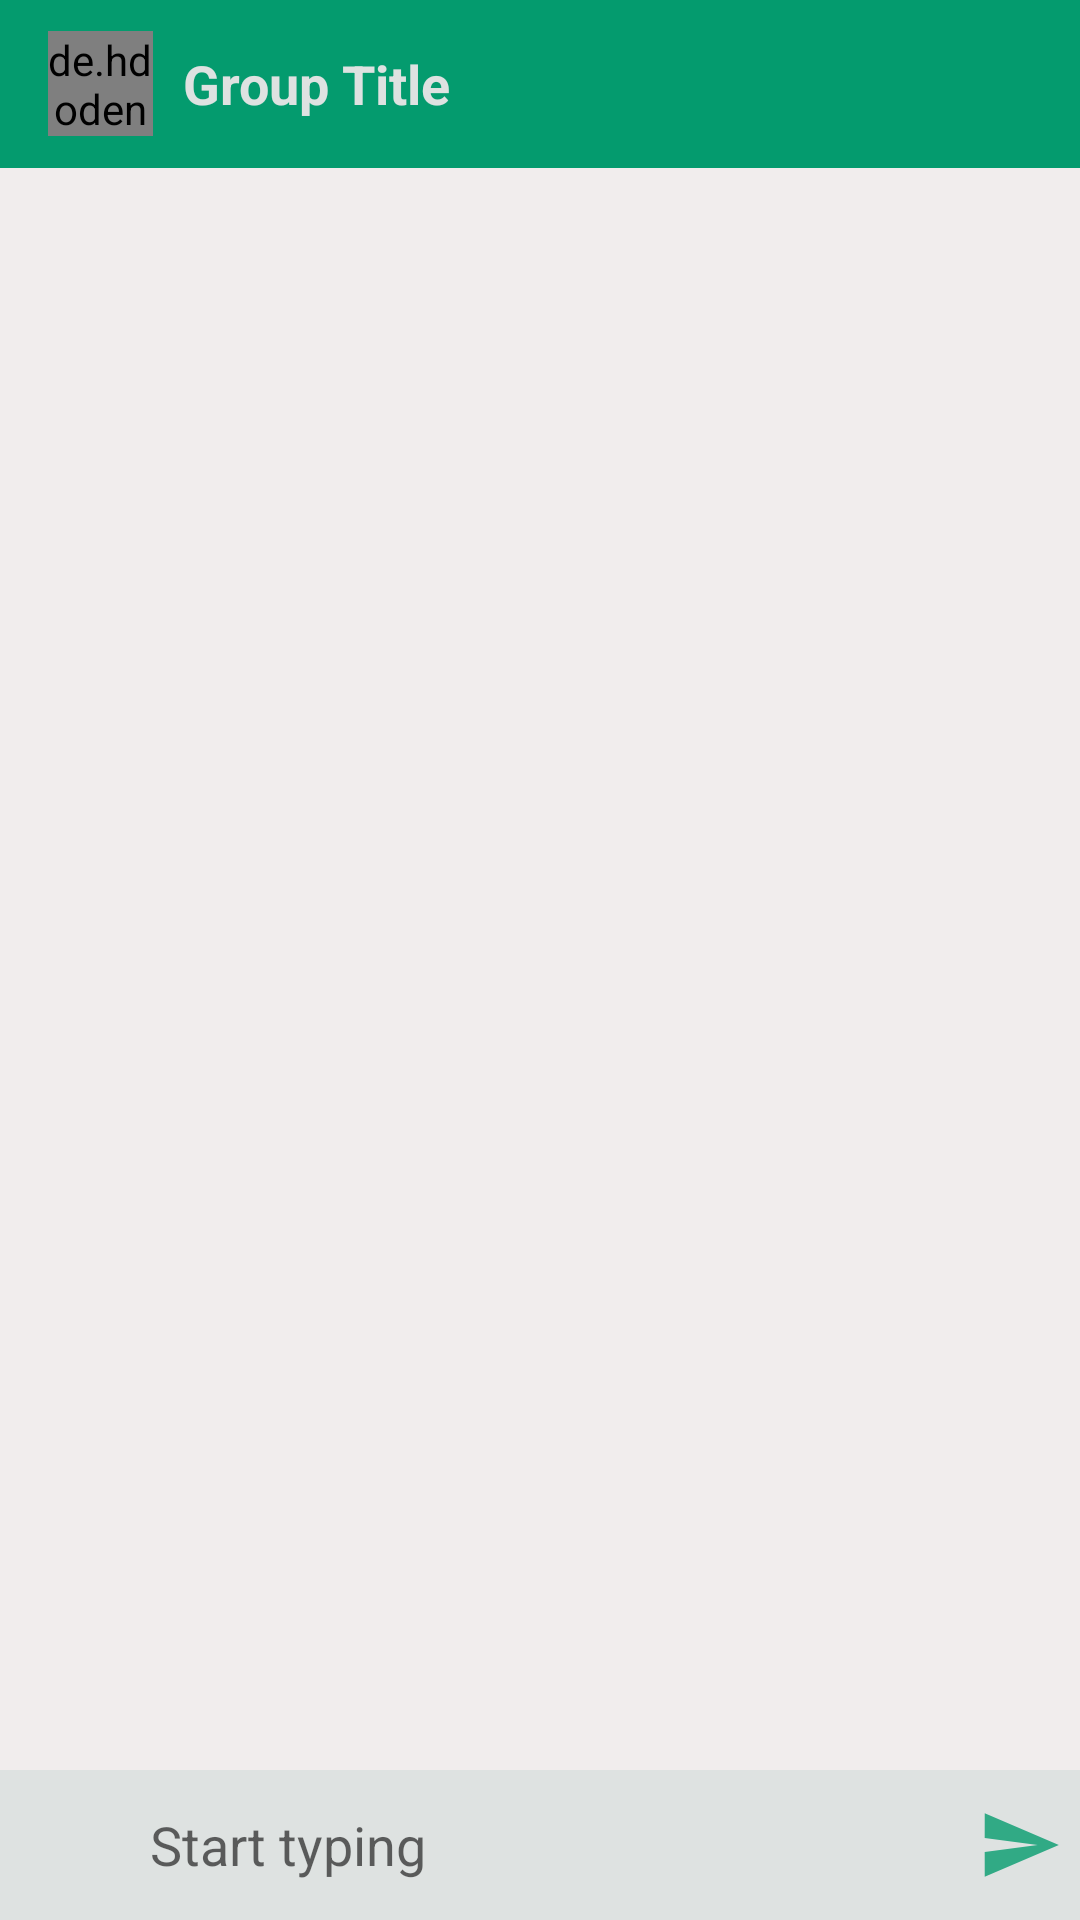

Named icons in this screenshot (1080×1920) and their centers, [x,y]:
send: [1021,1845]
